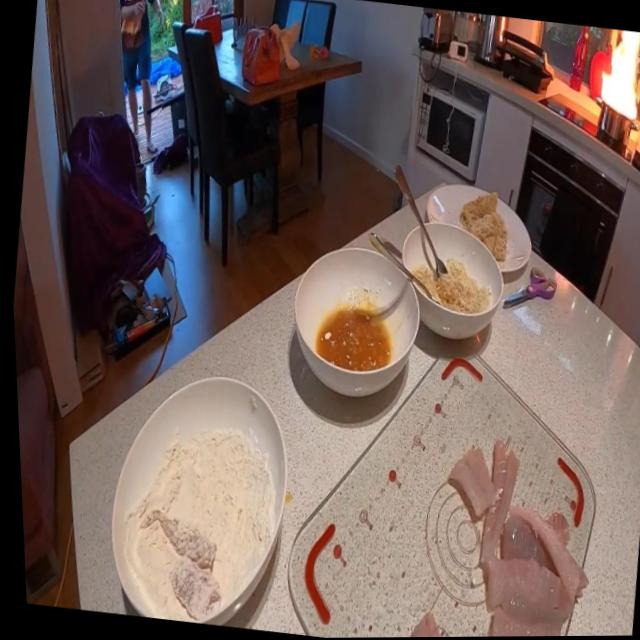fire: (592, 28, 640, 123)
